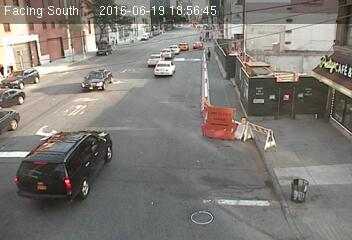neg: (263, 56, 282, 82), (30, 120, 47, 142)
pos: (201, 43, 217, 63)
